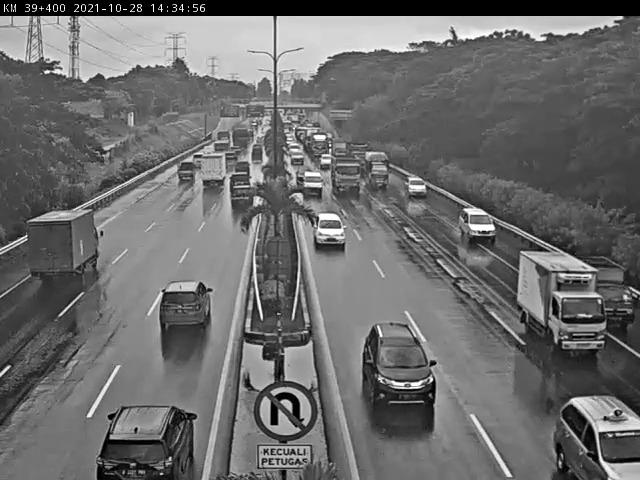big truck: (326, 158, 358, 193)
car: (546, 370, 640, 480), (89, 404, 196, 479), (361, 316, 444, 410), (151, 270, 214, 352), (587, 269, 639, 328), (308, 212, 348, 259), (457, 206, 493, 246), (398, 171, 428, 199), (299, 168, 325, 197), (225, 187, 251, 214), (173, 161, 196, 184), (231, 177, 248, 188)
small truck: (516, 254, 604, 350), (21, 207, 111, 297), (191, 150, 227, 198), (365, 156, 389, 190), (192, 315, 196, 332)
